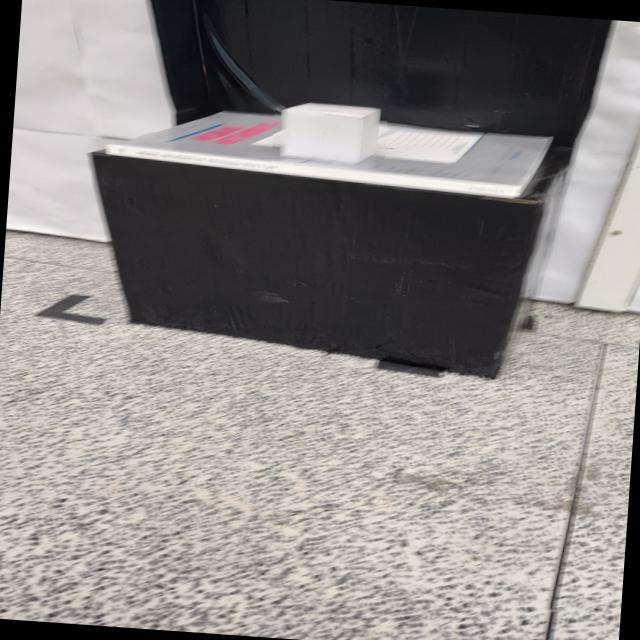bale: (274, 99, 388, 168)
